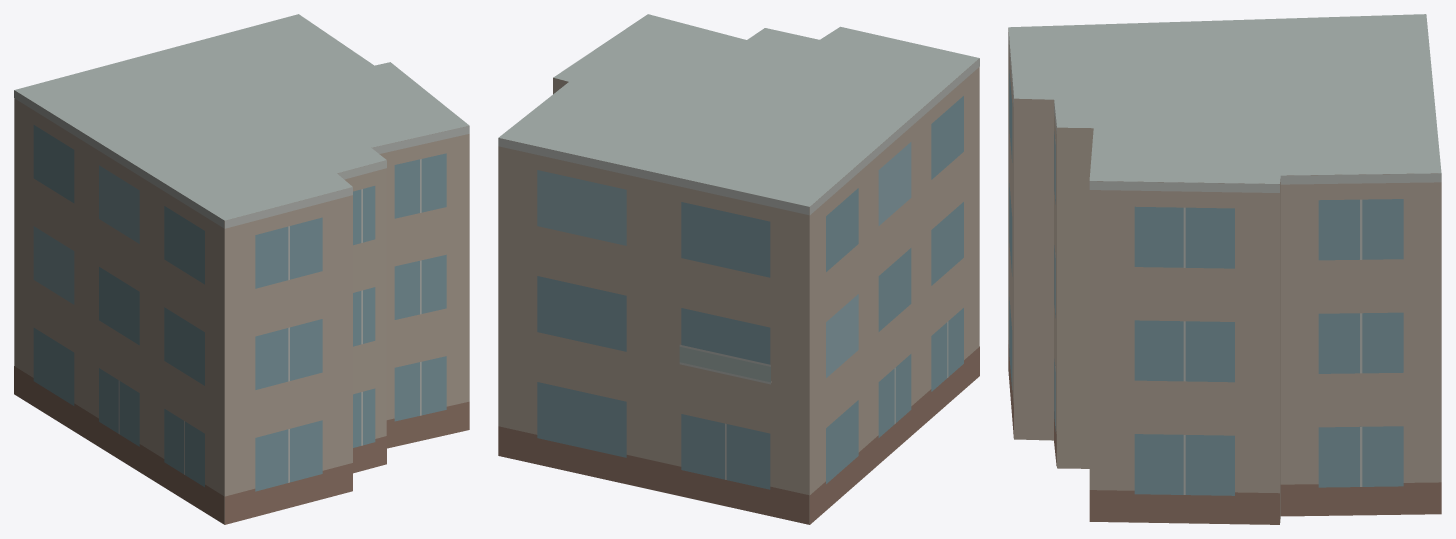
File: survey-upis-32623023.glb
3 views of the same model, side by side, from view 1: azimuth 30°, elevation 25°; view 2: azimuth 150°, elevation 25°; view 3: azimuth 270°, elevation 25° (orthographic). The views are drawn at different scales.
Visible parts, largest first — view 1: survey-upis-32623023.tmp; view 2: survey-upis-32623023.tmp; view 3: survey-upis-32623023.tmp.
Boxes of the visible parts, bbox=[...] form: survey-upis-32623023.tmp: bbox=[14, 14, 469, 524]; survey-upis-32623023.tmp: bbox=[498, 14, 979, 524]; survey-upis-32623023.tmp: bbox=[1008, 14, 1441, 524].
Size of the model in its own units: 9.8 by 9.15 by 10.55.
